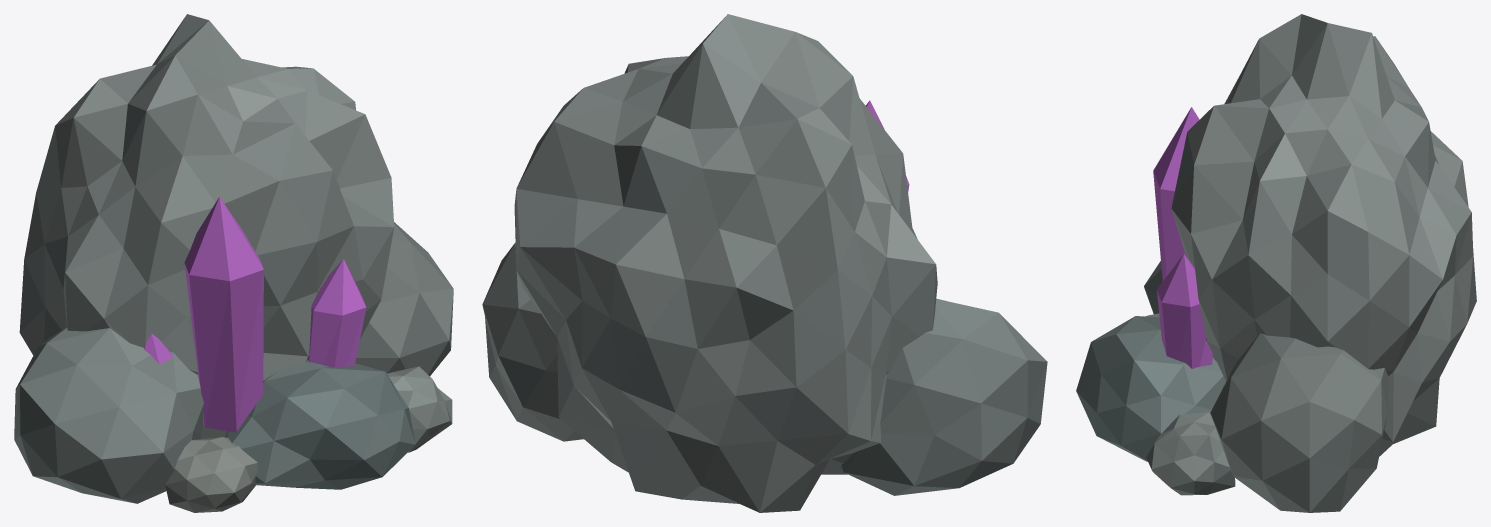
Rendered from crystal_violet.glb.
3 renders of one model, left to right at view 1: azimuth 30°, elevation 25°; view 2: azimuth 150°, elevation 25°; view 3: azimuth 270°, elevation 25°, orthographic. The views are drawn at different scales.
Parts seen in each view (by area): view 1: Main_rock, Rock_left, Rock_front, Crystal_main, Rock_right, Pebble_left, Crystal_side, Pebble_right, Crystal_small; view 2: Main_rock, Rock_left, Rock_right; view 3: Main_rock, Rock_right, Rock_front, Pebble_right, Crystal_side, Crystal_main, Rock_left.
Part boxes in pixels (bbox=[...]): Main_rock: bbox=[19, 14, 394, 439]; Rock_left: bbox=[14, 327, 203, 503]; Rock_front: bbox=[225, 360, 415, 489]; Crystal_main: bbox=[184, 197, 263, 432]; Rock_right: bbox=[355, 222, 453, 376]; Pebble_left: bbox=[165, 437, 257, 512]; Crystal_side: bbox=[308, 259, 366, 367]; Pebble_right: bbox=[387, 366, 452, 452]; Crystal_small: bbox=[144, 334, 176, 364]; Main_rock: bbox=[514, 14, 937, 512]; Rock_left: bbox=[840, 298, 1047, 495]; Rock_right: bbox=[482, 242, 583, 441]; Main_rock: bbox=[1171, 14, 1476, 456]; Rock_right: bbox=[1210, 333, 1388, 512]; Rock_front: bbox=[1076, 316, 1225, 461]; Pebble_right: bbox=[1146, 412, 1235, 495]; Crystal_side: bbox=[1156, 254, 1212, 368]; Crystal_main: bbox=[1153, 107, 1199, 281]; Rock_left: bbox=[1144, 261, 1162, 314].
Size of the model in its own units: 2.03 by 1.72 by 1.56.
